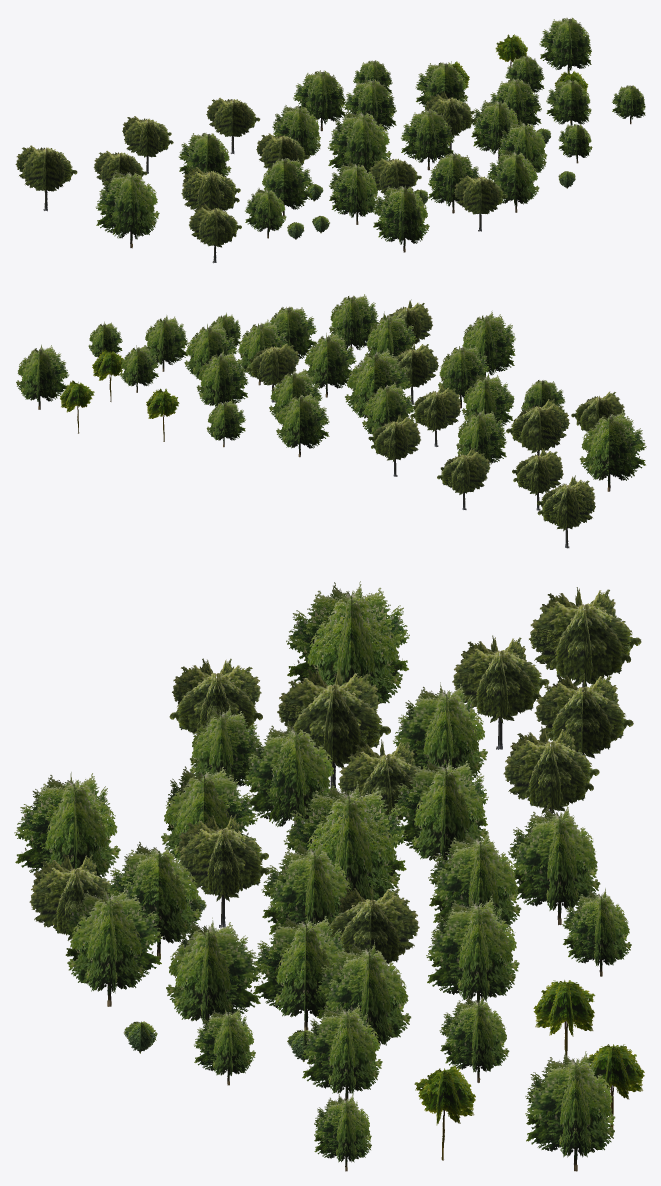
Rendered from ParkTreesChunk9.fbx.
The picture shows the model from 3 angles, top to bottom: view 1: azimuth 30°, elevation 25°; view 2: azimuth 150°, elevation 25°; view 3: azimuth 270°, elevation 25°; orthographic projection. The views are drawn at different scales.
Visible parts, largest first — view 1: TreesPack.010; view 2: TreesPack.010; view 3: TreesPack.010.
Boxes of the visible parts, <box> form: TreesPack.010: <box>15,17,645,263</box>; TreesPack.010: <box>16,294,646,548</box>; TreesPack.010: <box>14,581,644,1171</box>.
Size of the model in its own units: 14598 by 2165 by 7672.
